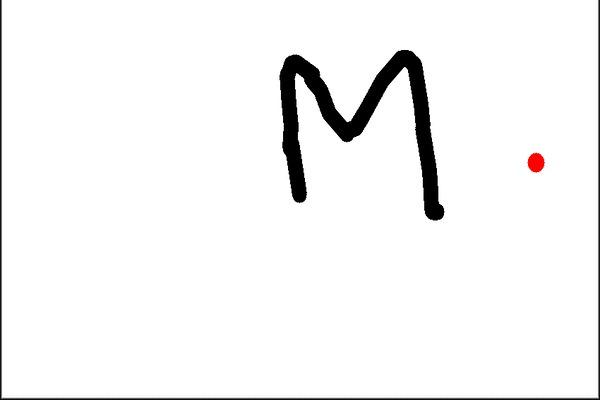M: (273, 48, 448, 221)
